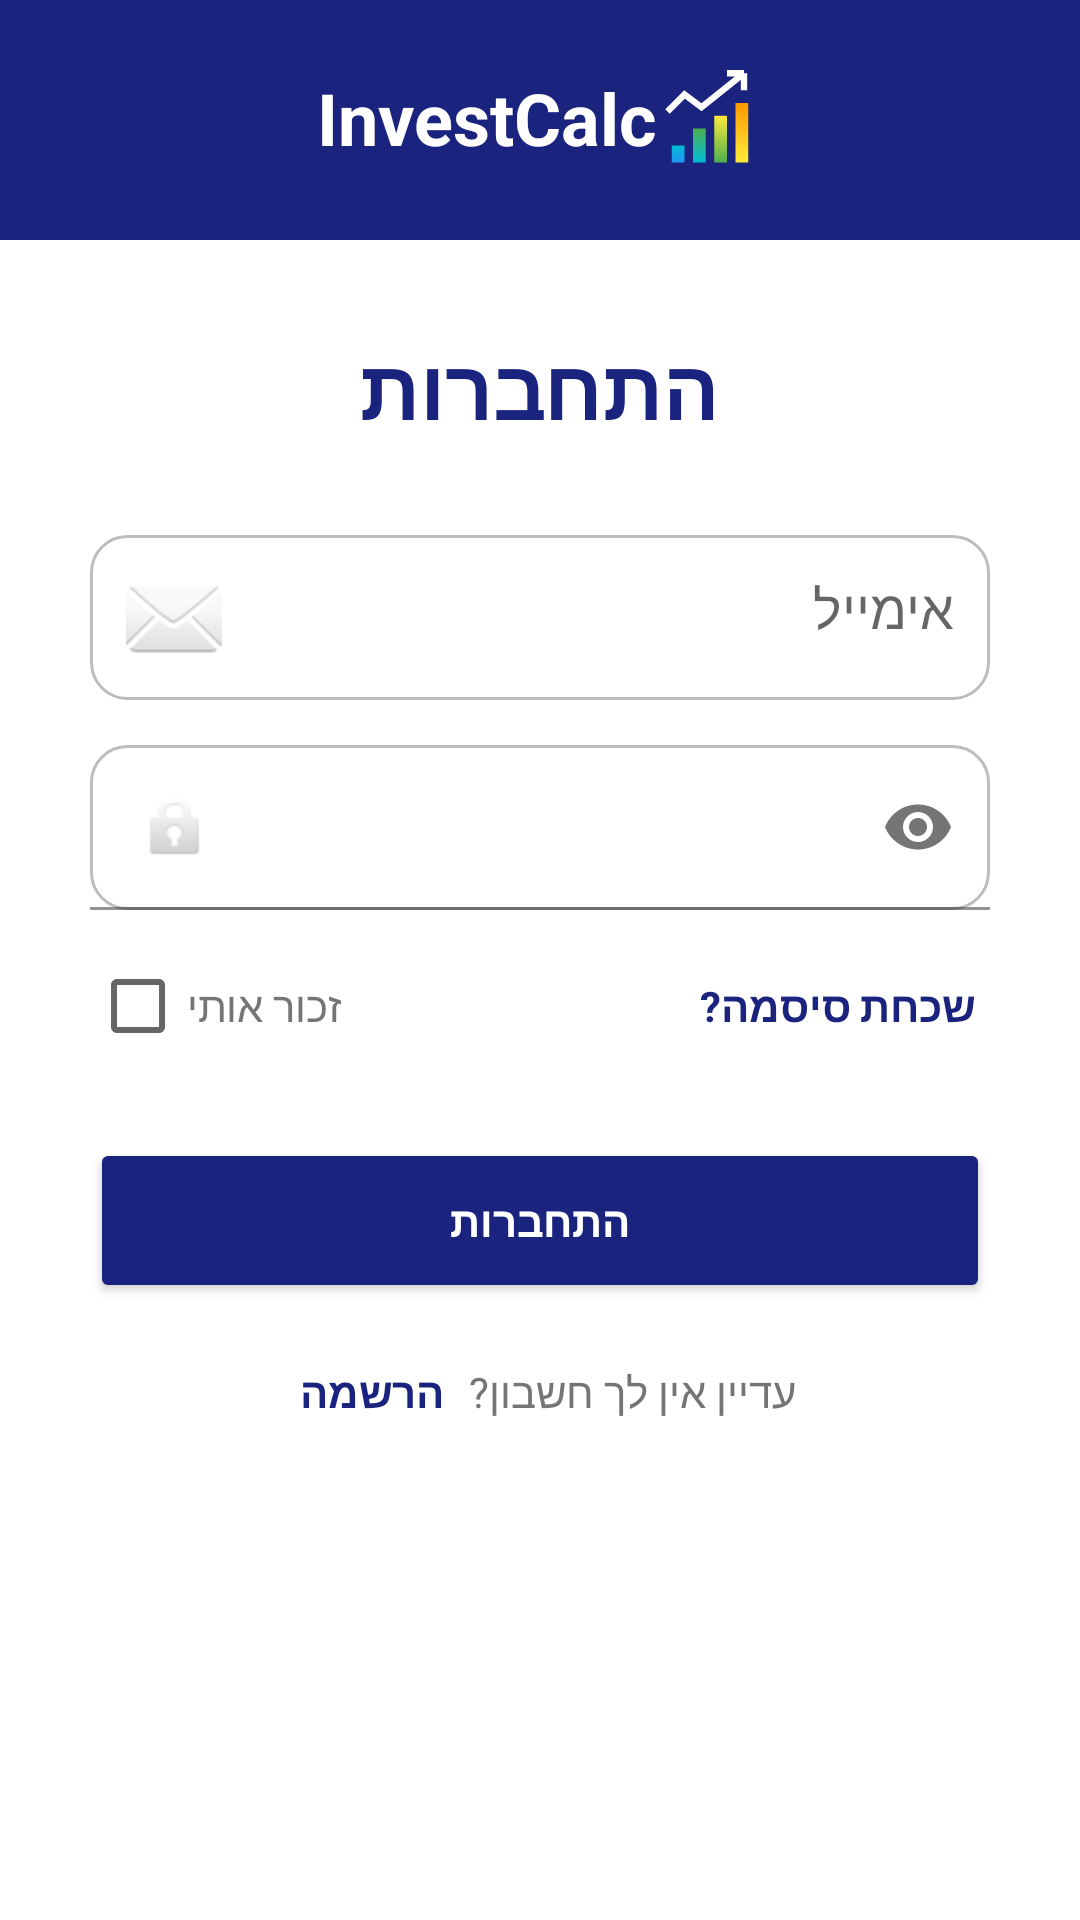

Icon click points for this 1080px×1920px phone screenshot, format (x=x, y=y):
growth graph: (x=707, y=116)
